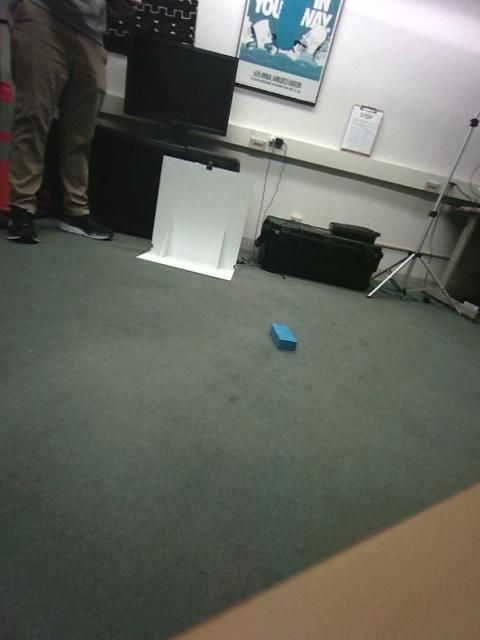block: (41, 400, 142, 475)
